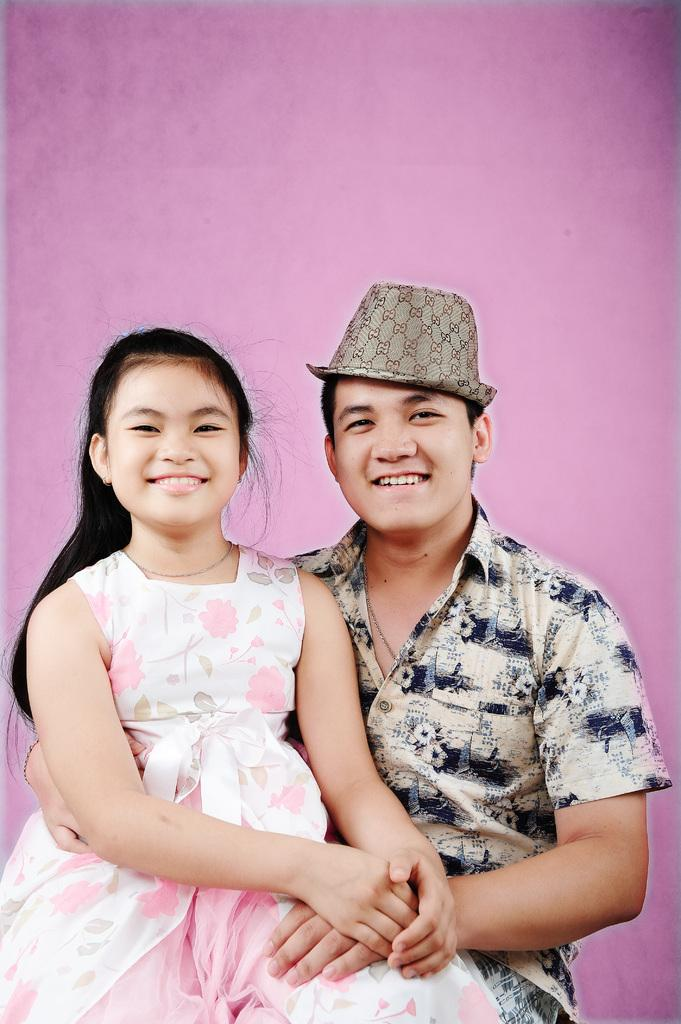Hat: (304, 281, 500, 407)
